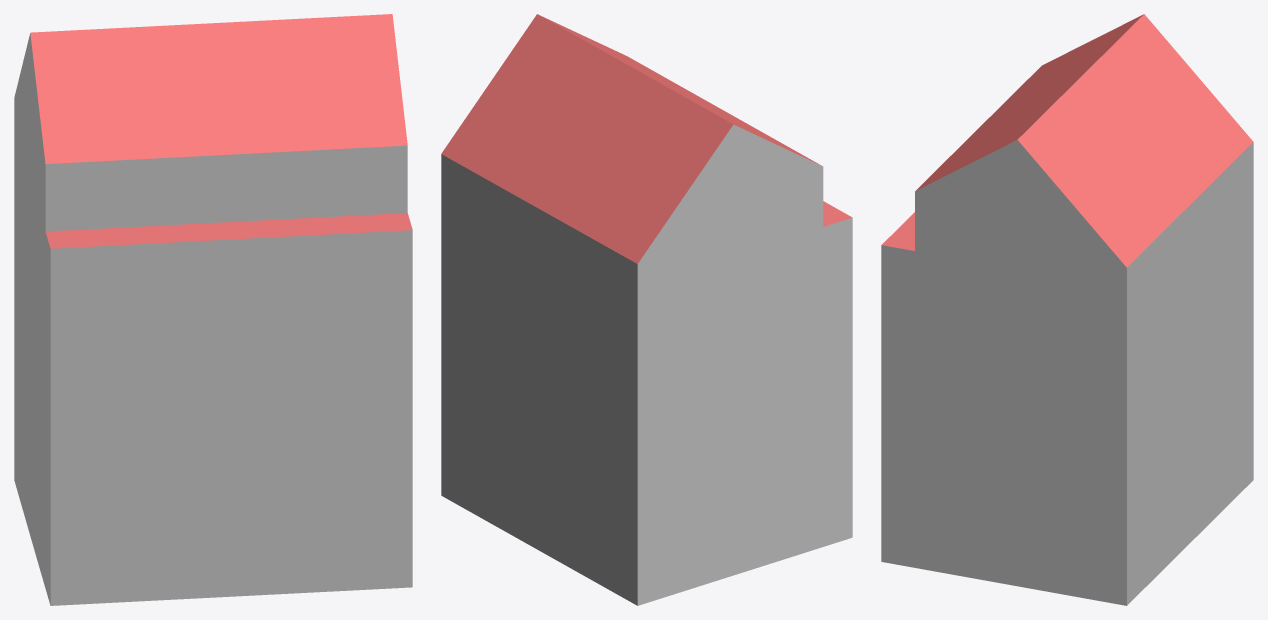
The model's file is DEBY_LOD2_4907014.gltf.
3 views of the same model, side by side, from view 1: azimuth 30°, elevation 25°; view 2: azimuth 150°, elevation 25°; view 3: azimuth 270°, elevation 25° (orthographic). The views are drawn at different scales.
Visible parts, largest first — view 1: Z_UP; view 2: Z_UP; view 3: Z_UP.
Part boxes in pixels (x1,y1,x2,y2): Z_UP: [14, 14, 412, 605]; Z_UP: [441, 14, 852, 605]; Z_UP: [881, 14, 1253, 605].
Bounding box in the file's own units: 16.76 × 20.54 × 15.51.
